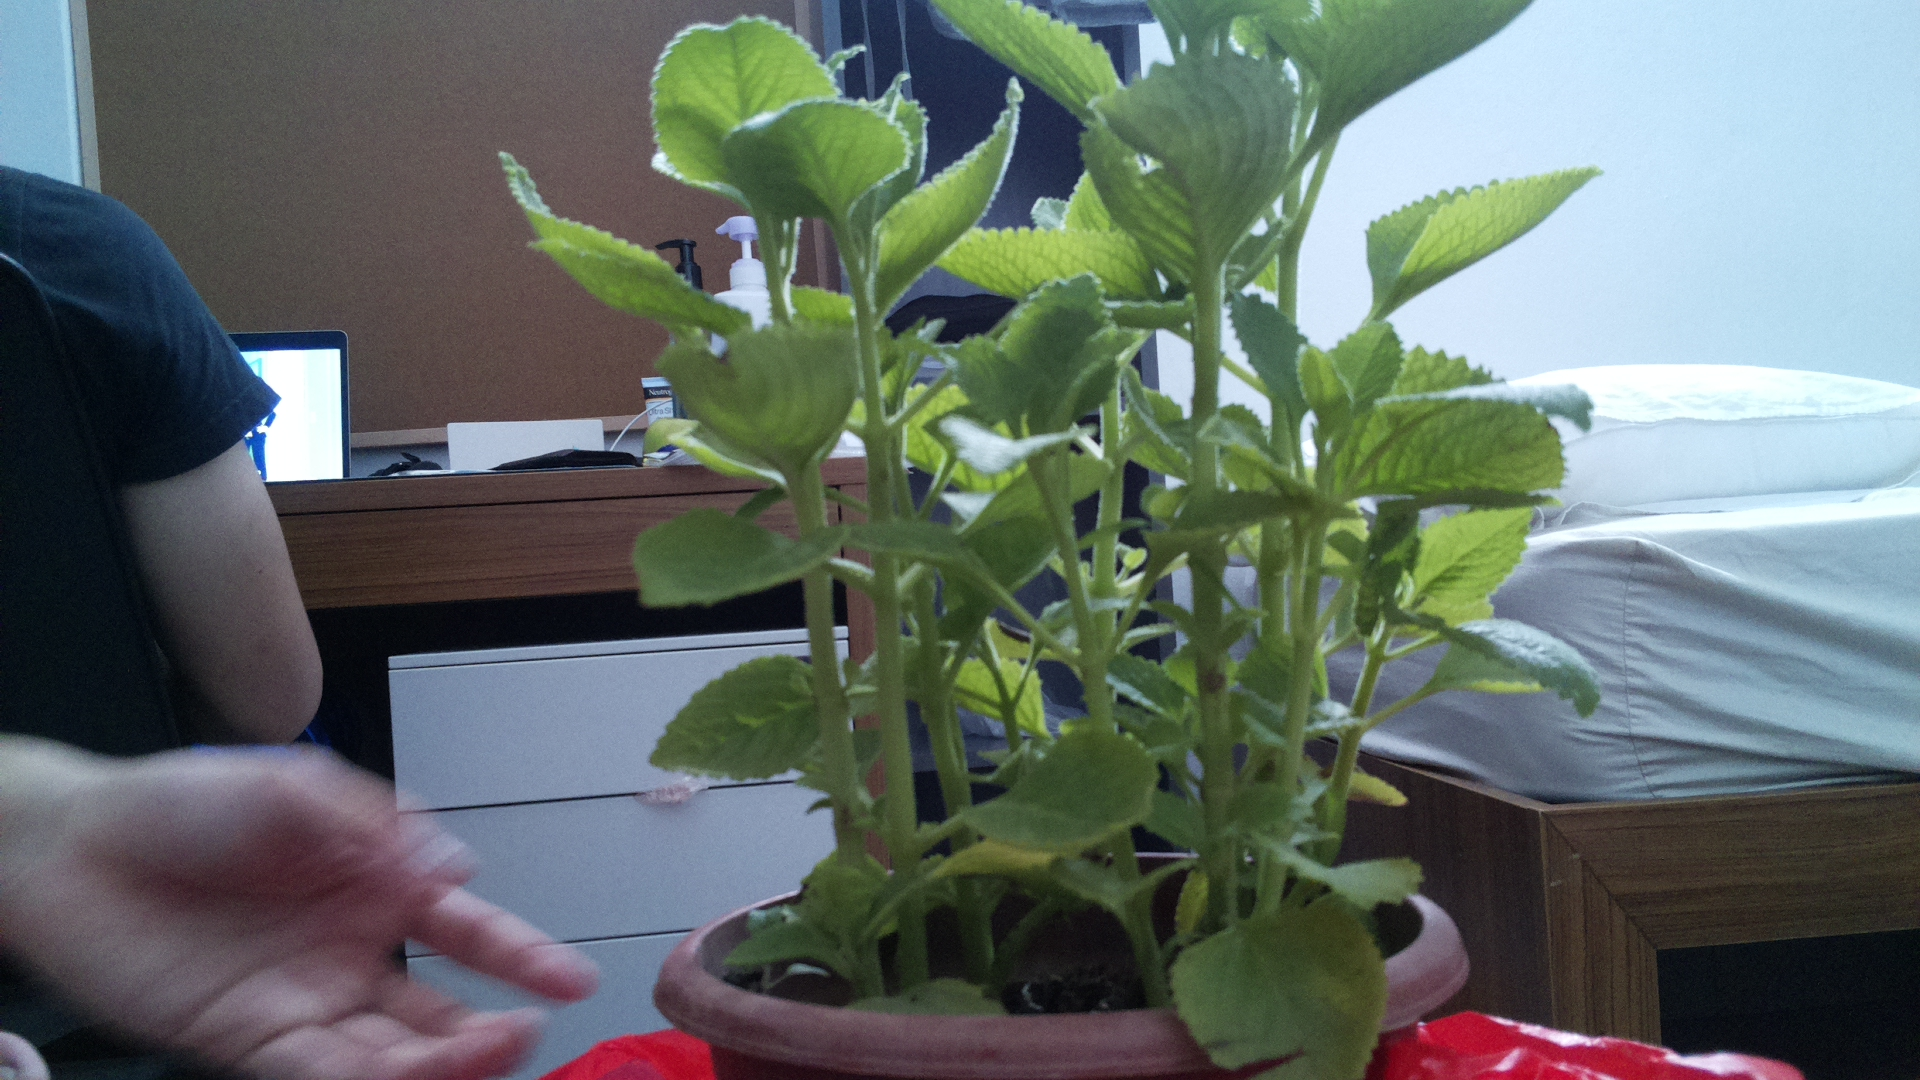leaf: (1085, 50, 1300, 298), (860, 71, 1035, 326), (512, 154, 752, 338), (1337, 157, 1605, 313), (1175, 903, 1400, 1080), (629, 18, 853, 195), (1313, 1, 1544, 138), (653, 324, 858, 475), (1353, 392, 1584, 521), (951, 721, 1164, 858), (626, 657, 858, 774), (617, 502, 851, 609), (737, 98, 927, 210), (1432, 618, 1607, 707), (1155, 483, 1316, 571), (948, 413, 1098, 483), (858, 506, 981, 589)
